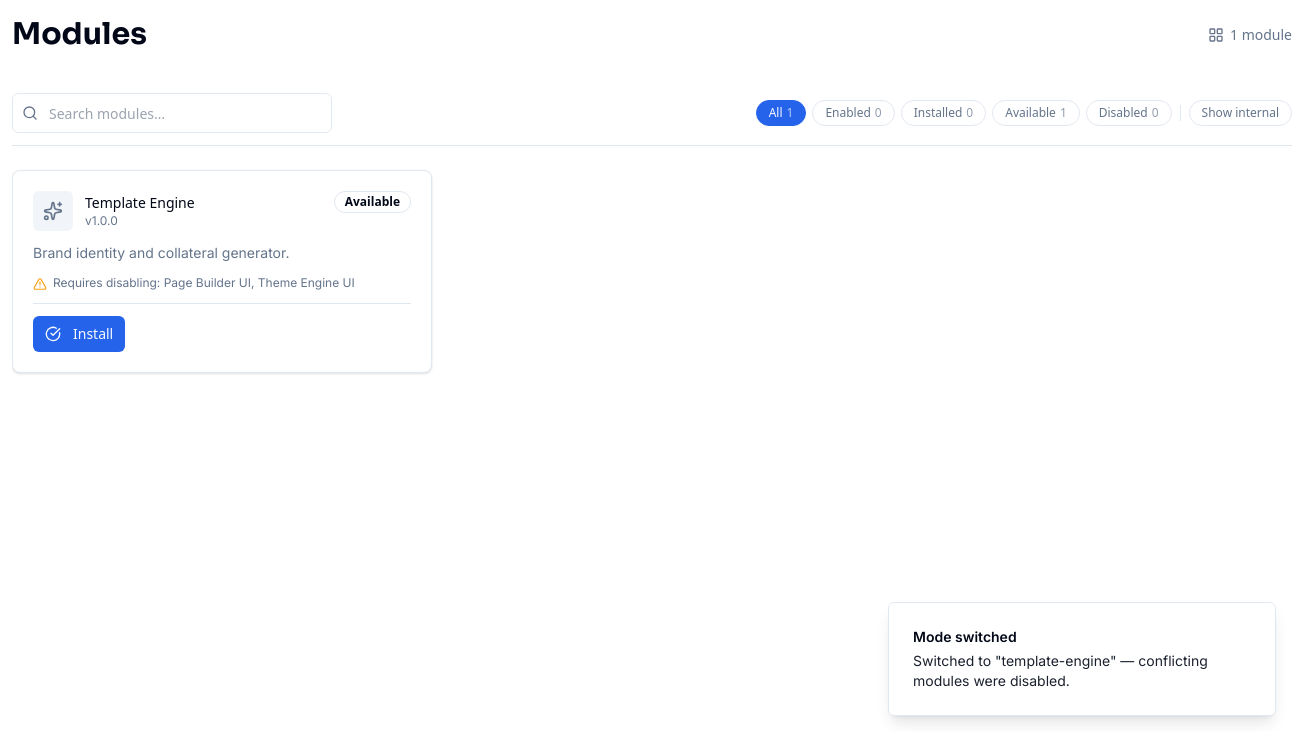
Test case: ModulesPage — visibleInCatalog filtering › reveals internal modules when "Show internal" toggle is on
The image size is (1304, 732).
Expected: the text "Template Engine" is shown, 85,193 -> 195,213
Expected: the text "Brand Kit" is not shown
Click the button "Show internal" at (1240, 113), box 1189,100 -> 1292,126
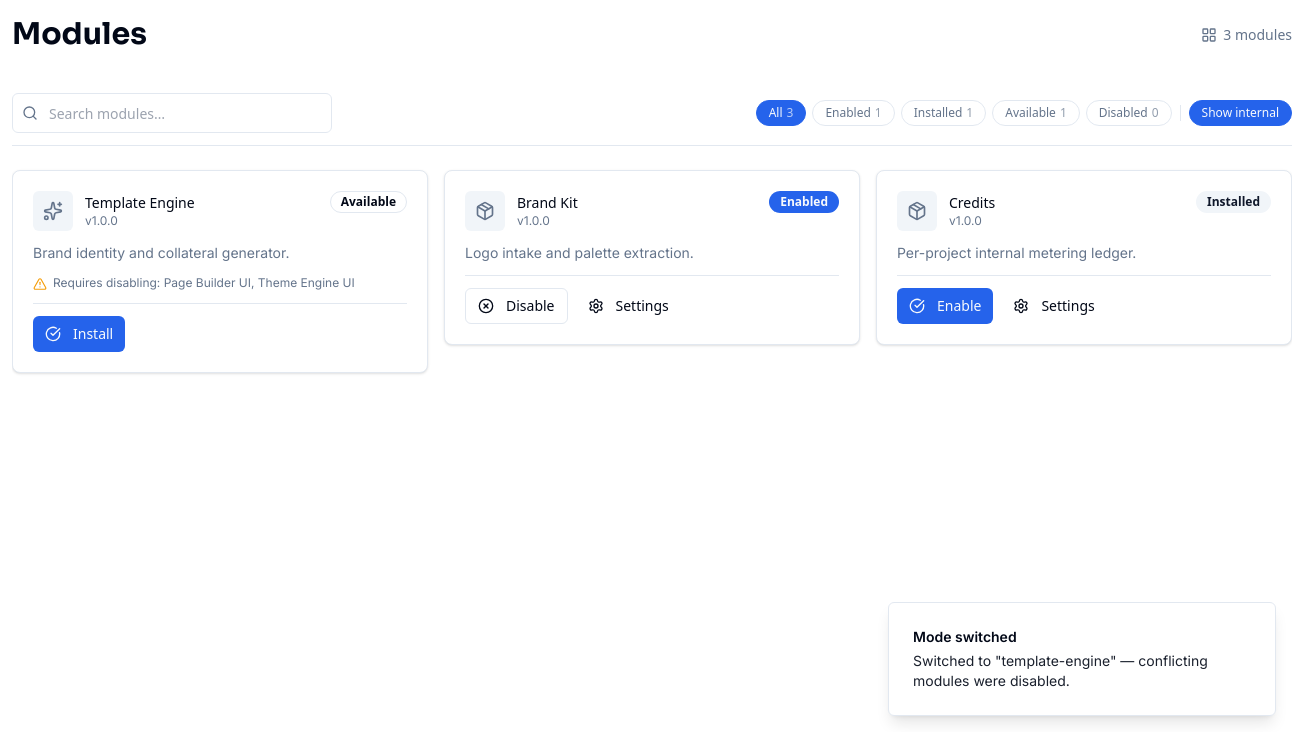
Now the text "Brand Kit" is shown, box 517,193 -> 578,213
Now the text "Credits" is shown, box 949,193 -> 995,213
